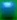blue: (0, 0, 17, 20)
